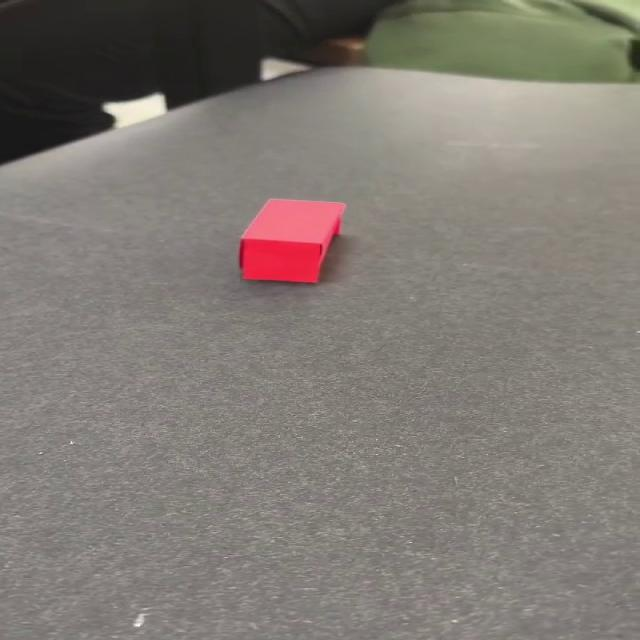red block: (238, 197, 346, 284)
